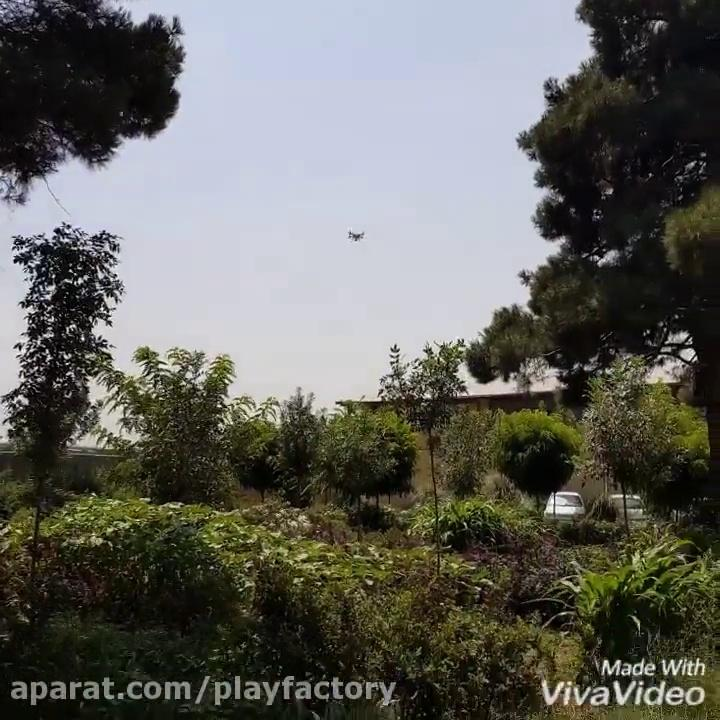drone: (339, 219, 373, 249)
